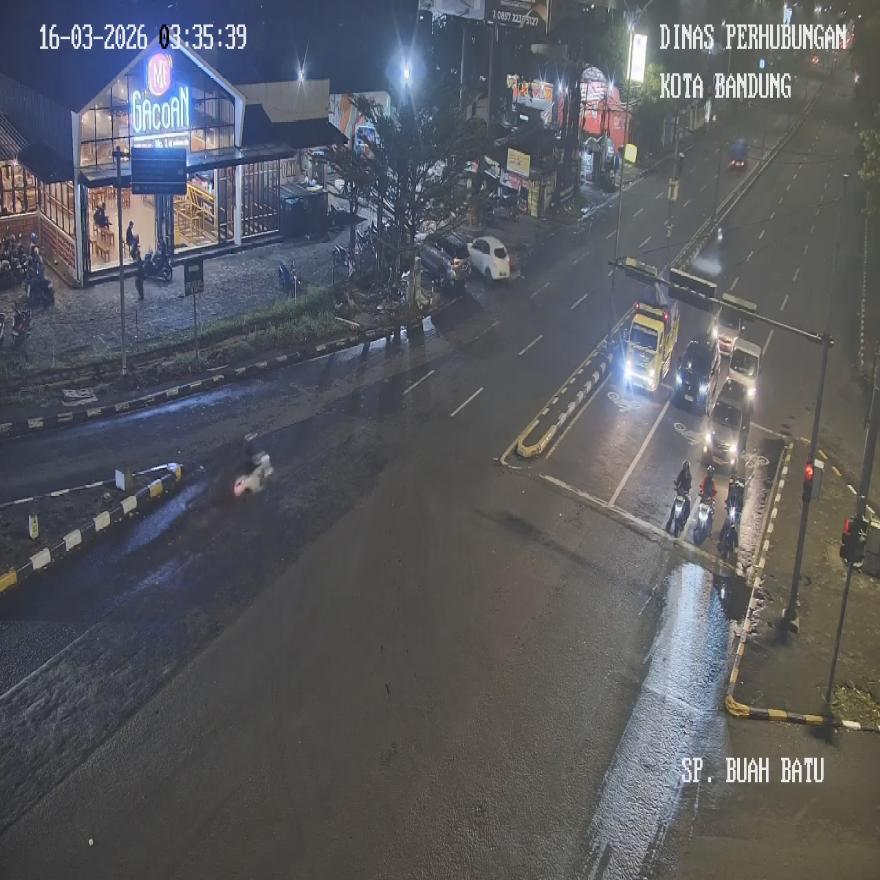Motor: (717, 500, 738, 561), (25, 264, 54, 307), (667, 480, 689, 536), (698, 466, 716, 532), (144, 243, 172, 281), (693, 494, 714, 541), (10, 304, 32, 348), (278, 260, 300, 297), (0, 309, 7, 347)
